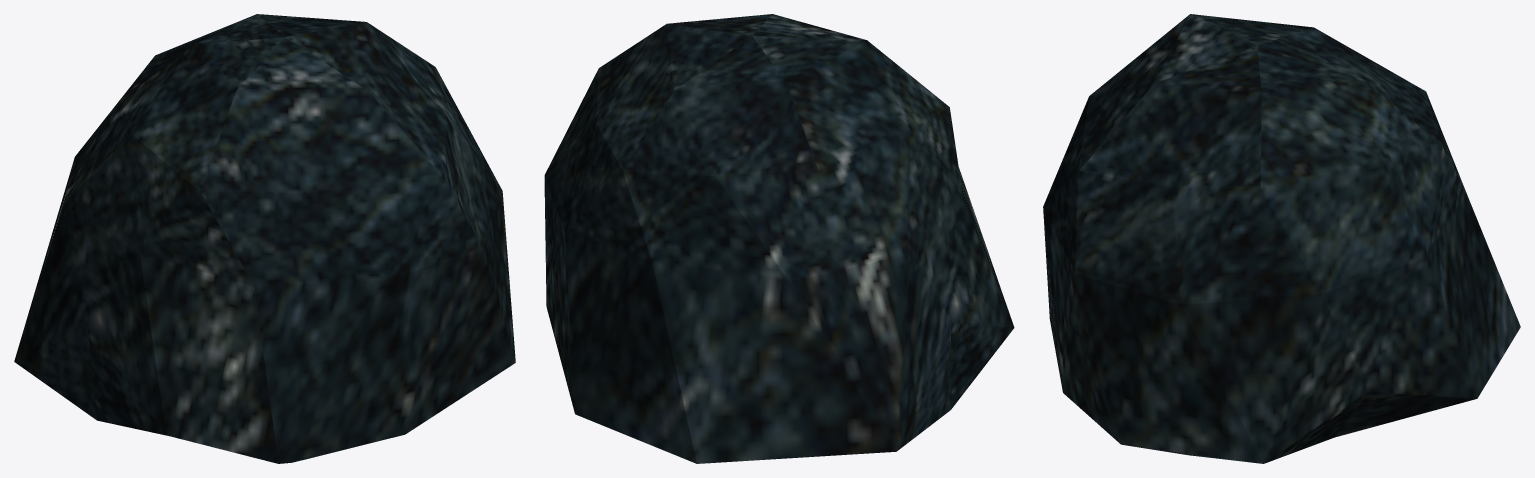
Rendered from Rock.fbx.
The picture shows the model from 3 angles, left to right: view 1: azimuth 30°, elevation 25°; view 2: azimuth 150°, elevation 25°; view 3: azimuth 270°, elevation 25°; orthographic projection.
Visible parts, largest first — view 1: Icosphere; view 2: Icosphere; view 3: Icosphere.
Boxes of the visible parts, x1,y1,x2,y2 form: Icosphere: (14, 14, 515, 463); Icosphere: (544, 14, 1014, 463); Icosphere: (1043, 14, 1520, 463).
Bounding box in the file's own units: 216 × 193 × 226.
